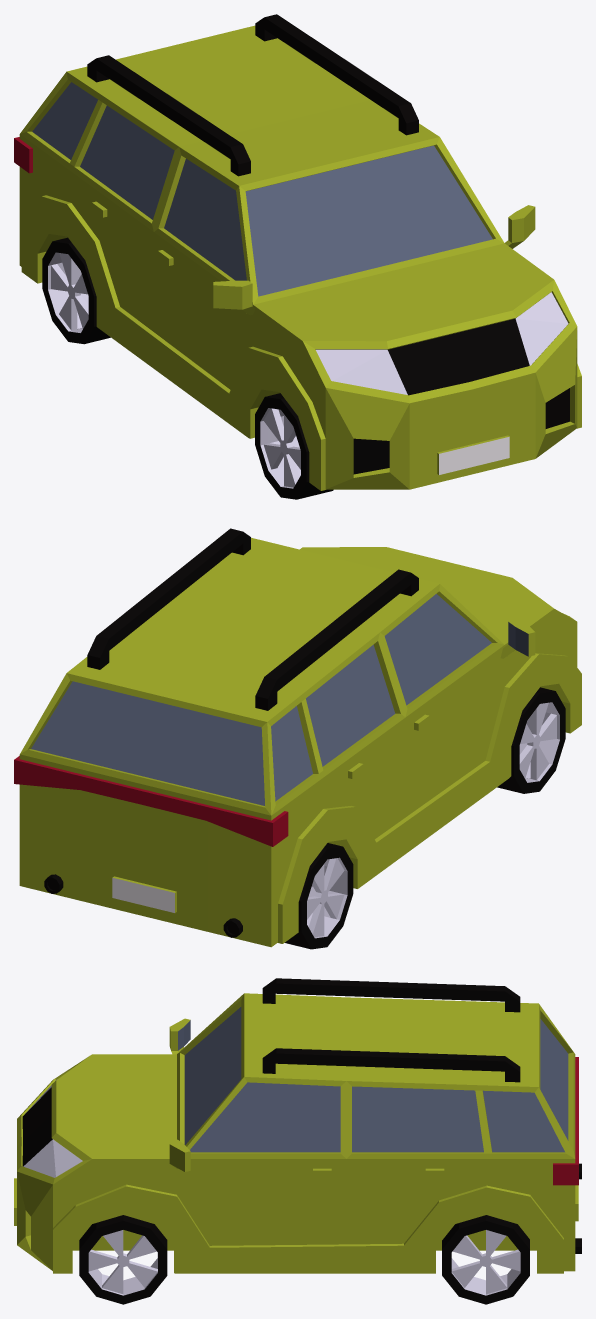
File: 4runner.glb
3 views of the same model, one above another, from view 1: azimuth 30°, elevation 25°; view 2: azimuth 150°, elevation 25°; view 3: azimuth 270°, elevation 25° (orthographic). The views are drawn at different scales.
Parts seen in each view (by area): view 1: SUV, SUV wheel front right, SUV wheel rear right; view 2: SUV, SUV wheel rear right, SUV wheel front right; view 3: SUV, SUV wheel front left, SUV wheel rear left.
Boxes of the visible parts, x1,y1,x2,y2 form: SUV: [14, 14, 581, 490]; SUV wheel front right: [255, 393, 333, 499]; SUV wheel rear right: [42, 237, 110, 344]; SUV: [14, 528, 581, 947]; SUV wheel rear right: [285, 843, 353, 949]; SUV wheel front right: [497, 687, 565, 793]; SUV: [14, 978, 581, 1273]; SUV wheel front left: [79, 1215, 167, 1304]; SUV wheel rear left: [442, 1215, 529, 1304].
Size of the model in its own units: 2.81 by 2.3 by 5.04.
